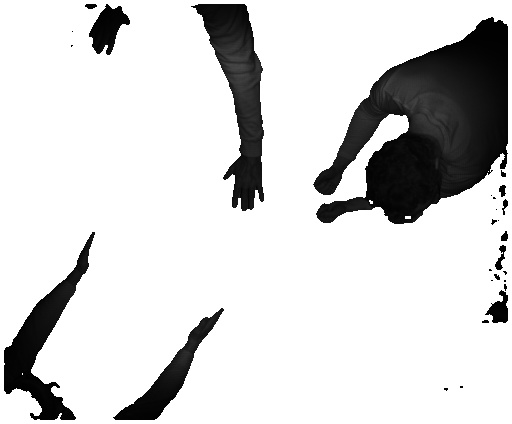fist: (312, 165, 342, 199), (312, 200, 344, 223)
hand: (216, 158, 263, 215)
spine: (188, 304, 223, 349), (76, 232, 95, 279)
